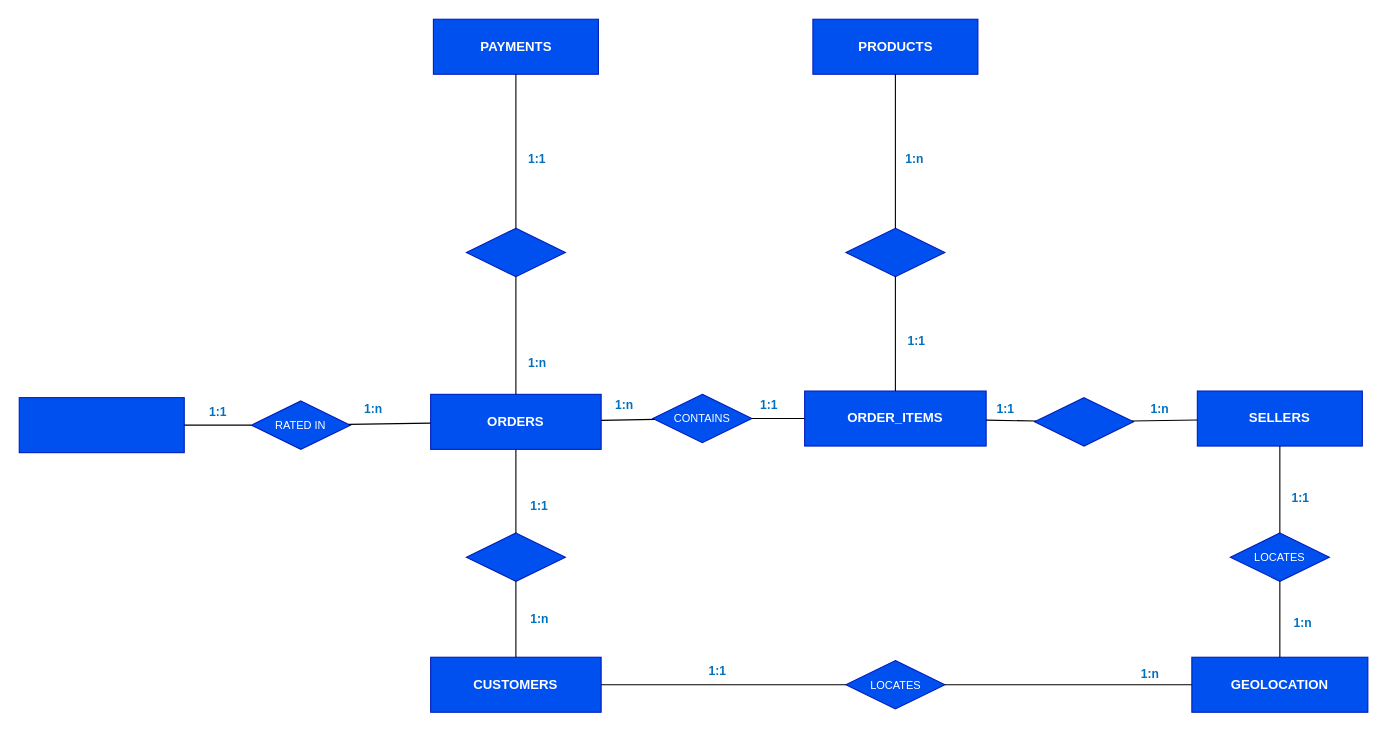
Some shapes in this 1387 by 732 pixel diagram are drawn without their labels. Each missing label, with the centre of its shape:
INCLUDES: the point at 895,252
PAID VIA: the point at 515,252
PLACES: the point at 515,556
REVIEWS: the point at 101,425
SELLS: the point at 1083,421
